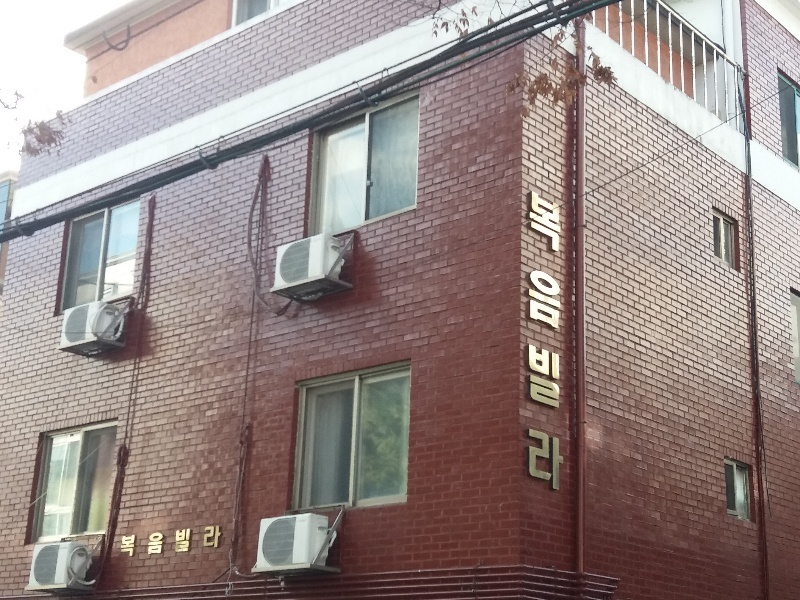text: (529, 188, 544, 502), (545, 188, 560, 502), (561, 188, 566, 502), (526, 188, 528, 502), (129, 524, 144, 562), (145, 524, 160, 562), (161, 524, 176, 562), (177, 524, 192, 562), (193, 524, 208, 562), (209, 524, 223, 562), (120, 524, 128, 562)
